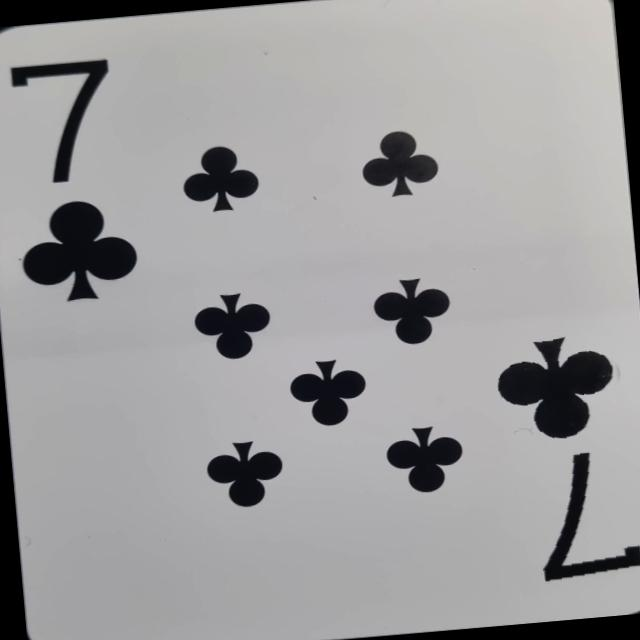7c: (482, 316, 640, 598), (0, 44, 156, 321)
